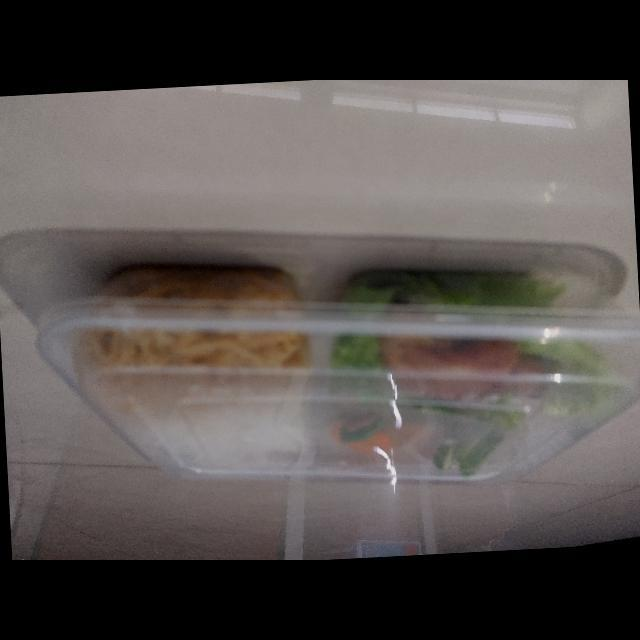bento: (39, 262, 640, 480)
